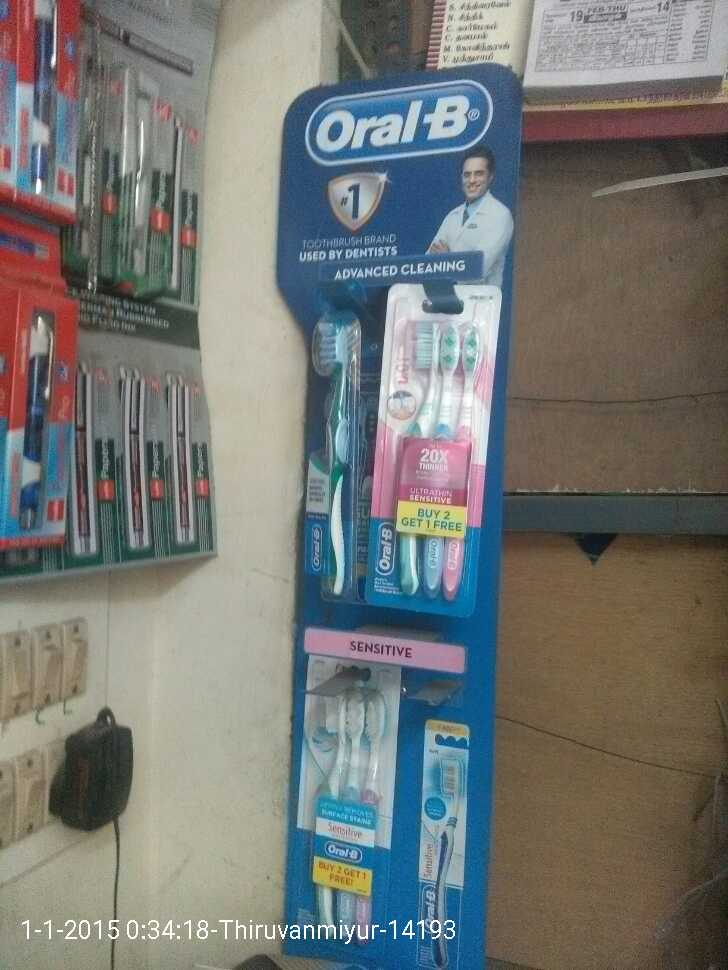oralb: (381, 307, 481, 604), (306, 680, 383, 940), (303, 300, 358, 593)
